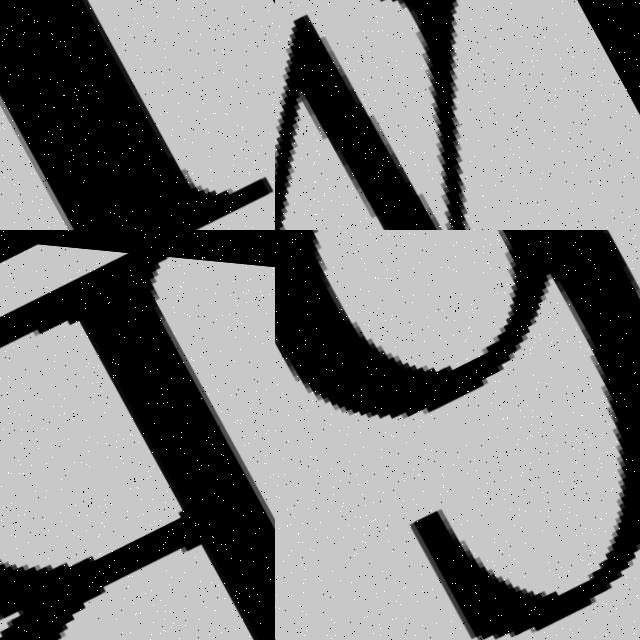6: (275, 230, 640, 640)
B: (0, 246, 275, 640)
F: (0, 0, 275, 230)
M: (275, 0, 640, 230)
